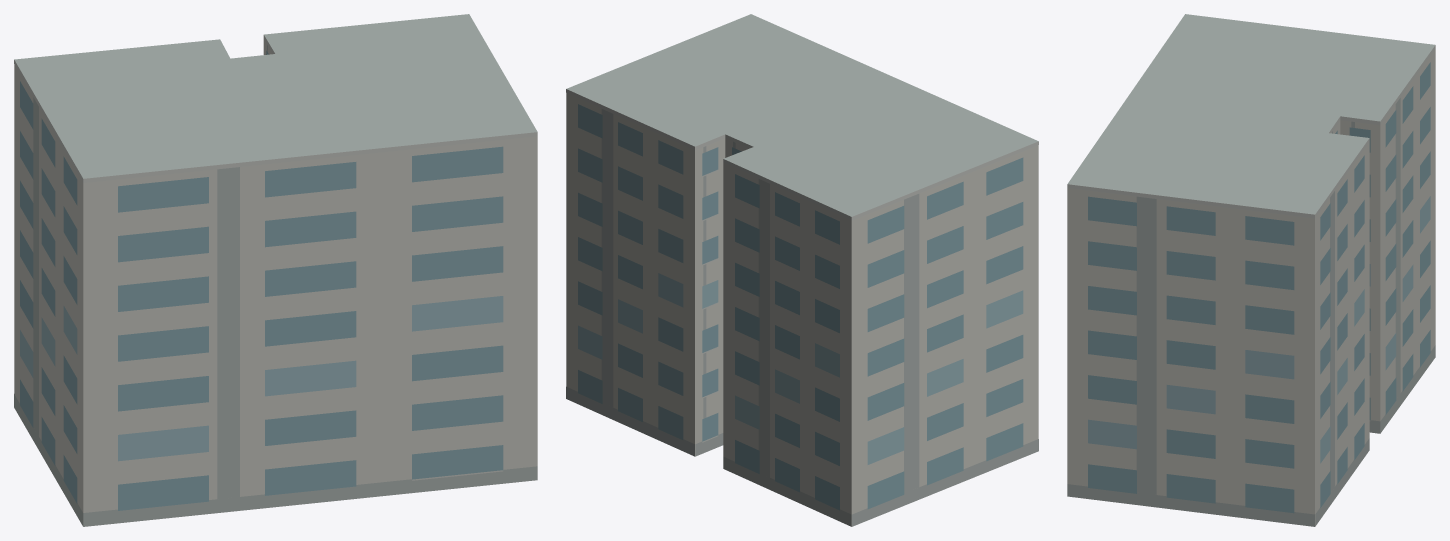
Rendered from survey-upis-33023722.glb.
The picture shows the model from 3 angles, left to right: view 1: azimuth 30°, elevation 25°; view 2: azimuth 150°, elevation 25°; view 3: azimuth 270°, elevation 25°; orthographic projection. The views are drawn at different scales.
Parts seen in each view (by area): view 1: survey-upis-33023722.tmp; view 2: survey-upis-33023722.tmp; view 3: survey-upis-33023722.tmp.
Boxes of the visible parts, box(x1,y1,x2,y2) form: survey-upis-33023722.tmp: box(14, 14, 537, 526); survey-upis-33023722.tmp: box(566, 14, 1038, 526); survey-upis-33023722.tmp: box(1067, 14, 1435, 526).
Size of the model in its own units: 27.16 by 19.7 by 21.07.
